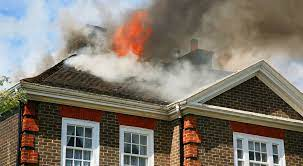smoke: (12, 2, 303, 86)
